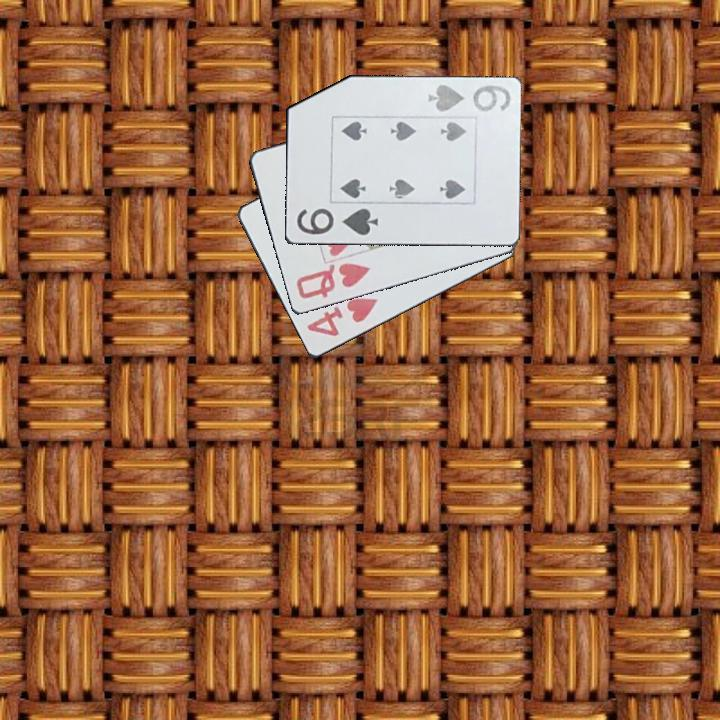4h: (303, 294, 381, 341)
6s: (424, 82, 513, 115), (293, 205, 381, 238)
Qh: (291, 260, 373, 305)
